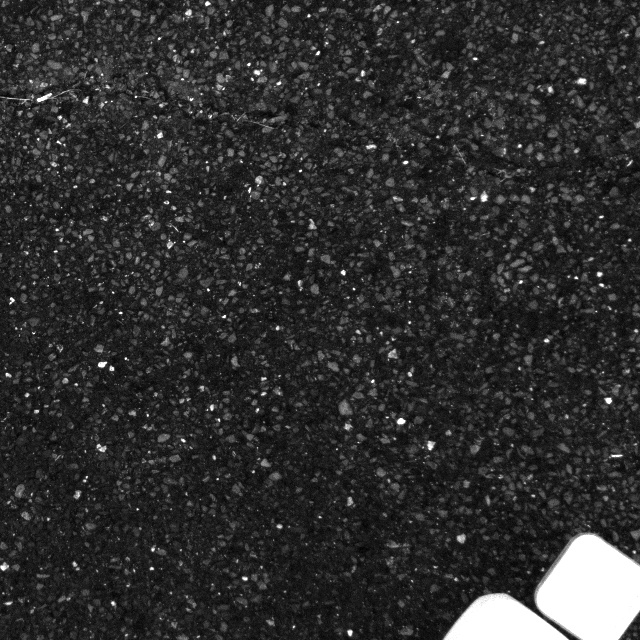can: (424, 590, 603, 640)
container: (529, 523, 640, 640)
